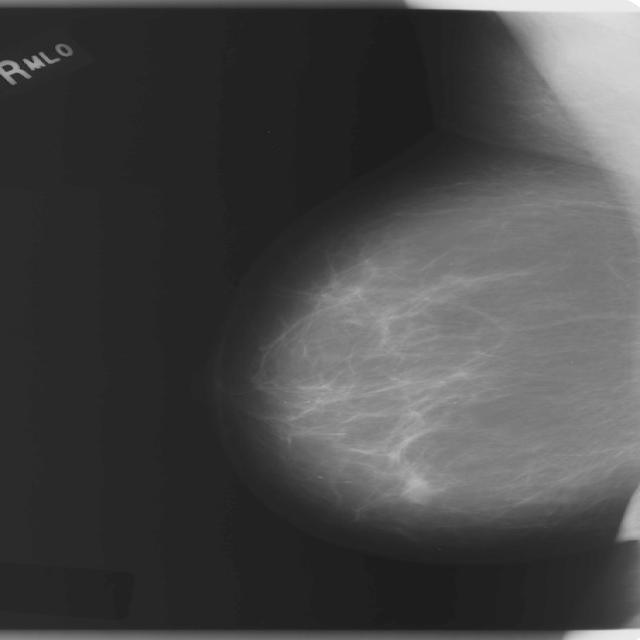tumour: (396, 468, 432, 504)
